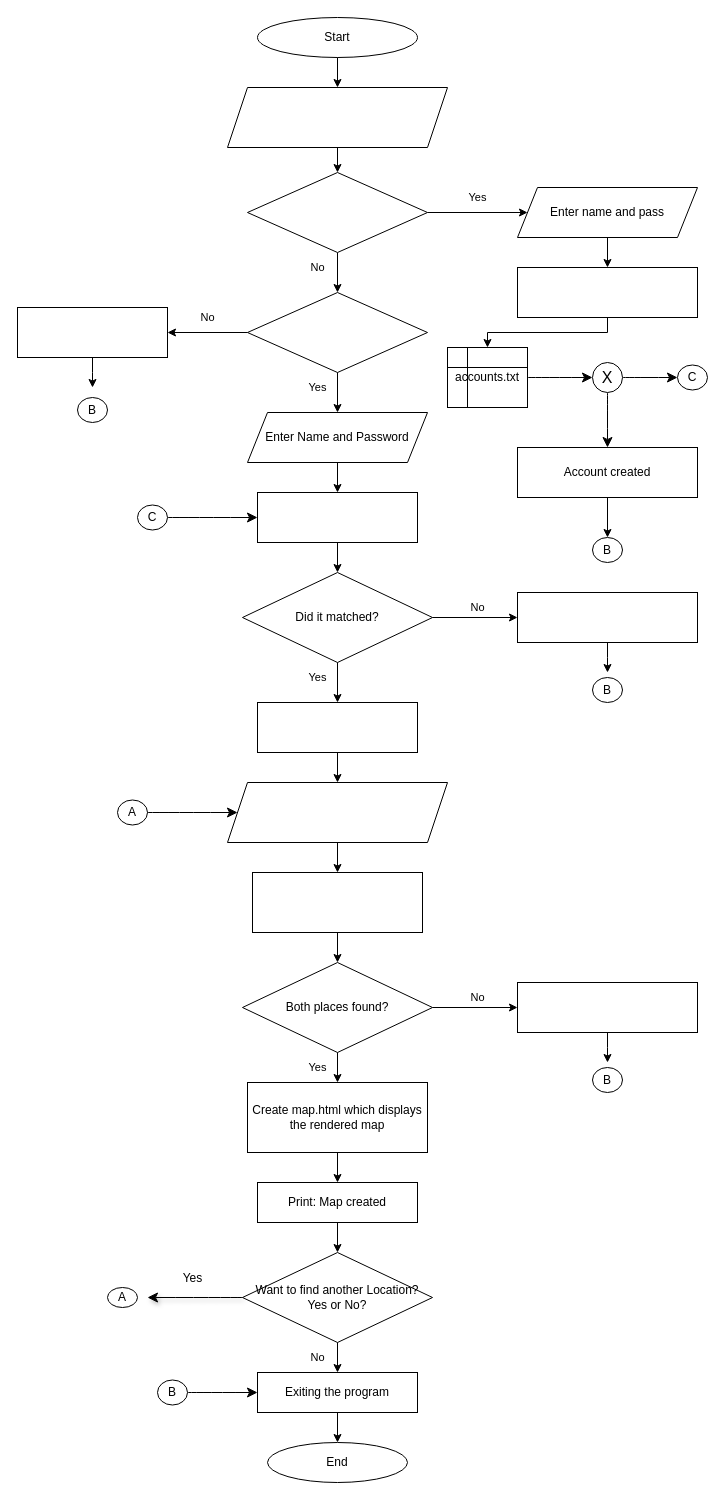
The diagram is 725 pixels wide and 1500 high, and some of its shapes have lost their labels. The centre of each missing label's shape, as x and y in pixels:
Do you want to Login?: [337,332]
Do you want to Register?: [337,212]
Enter starting place and destination: [337,812]
Exiting...: [92,332]
Find Lat and Lon of locations and the shortest route: [337,902]
iIfstream accounts.txt: [337,517]
Incorrect: [607,617]
Location not found: [607,1007]
Login successful!: [337,727]
ofstream to accounts.txt: [607,292]
Show Choices register login Exit: [337,117]
